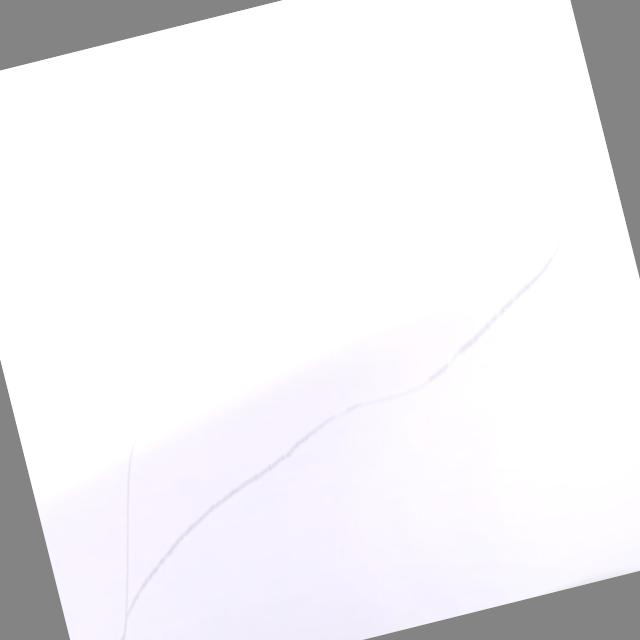crack: (118, 292, 566, 574), (76, 86, 434, 425)
